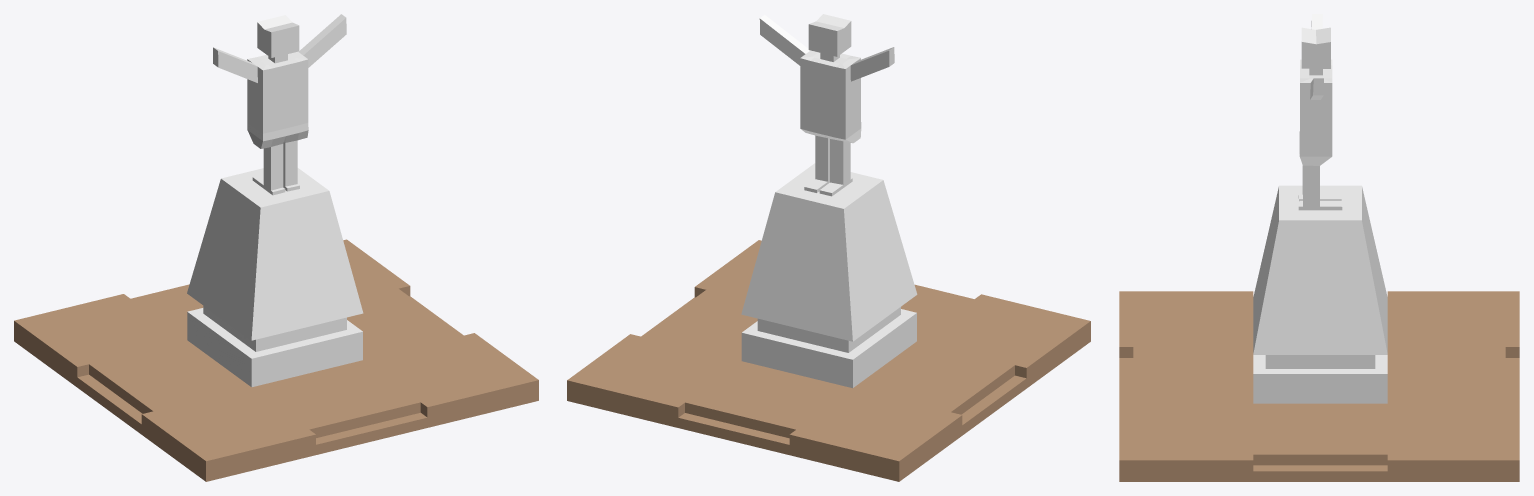
The model's file is Shrine01.fbx.
3 renders of one model, left to right at view 1: azimuth 30°, elevation 25°; view 2: azimuth 150°, elevation 25°; view 3: azimuth 270°, elevation 25°, orthographic. The views are drawn at different scales.
Visible parts, largest first — view 1: Shrine01; view 2: Shrine01; view 3: Shrine01.
Part boxes in pixels (x1,y1,x2,y2): Shrine01: (14, 14, 538, 481); Shrine01: (567, 14, 1090, 481); Shrine01: (1119, 14, 1519, 481).
Bounding box in the file's own units: 0.7935 × 0.7937 × 0.7935.
